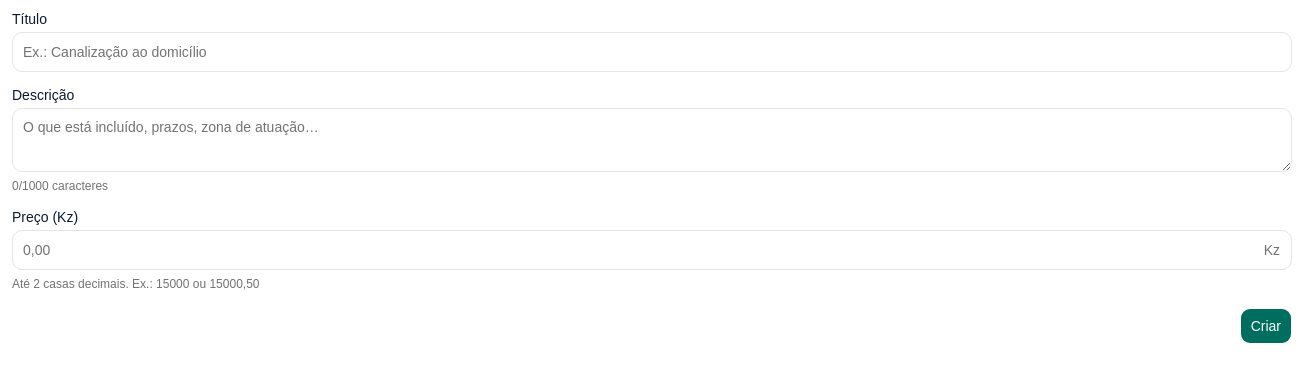
it: ServiceForm › mostra os erros de validação do contrato
In the field labelled "Título": (652, 52) [12,32,1292,72], type "ab"
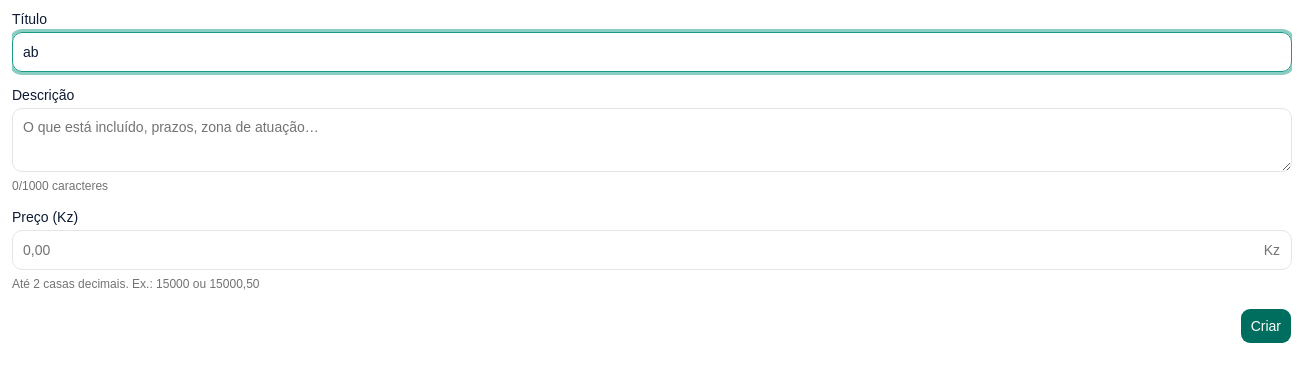
In the field labelled "Preço (Kz)": (652, 250) [12,230,1292,270], type "12,345"
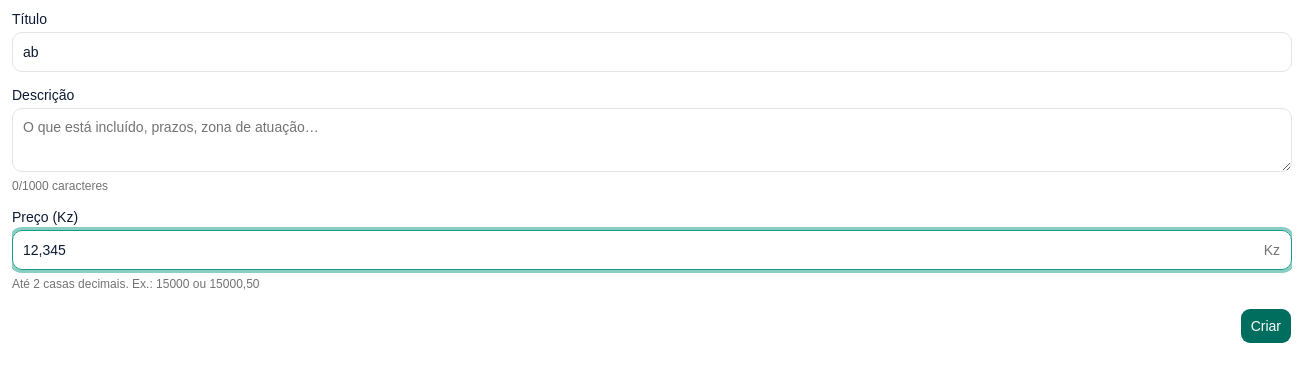
Click the button "Criar": (1266, 326) [1240,308,1292,344]
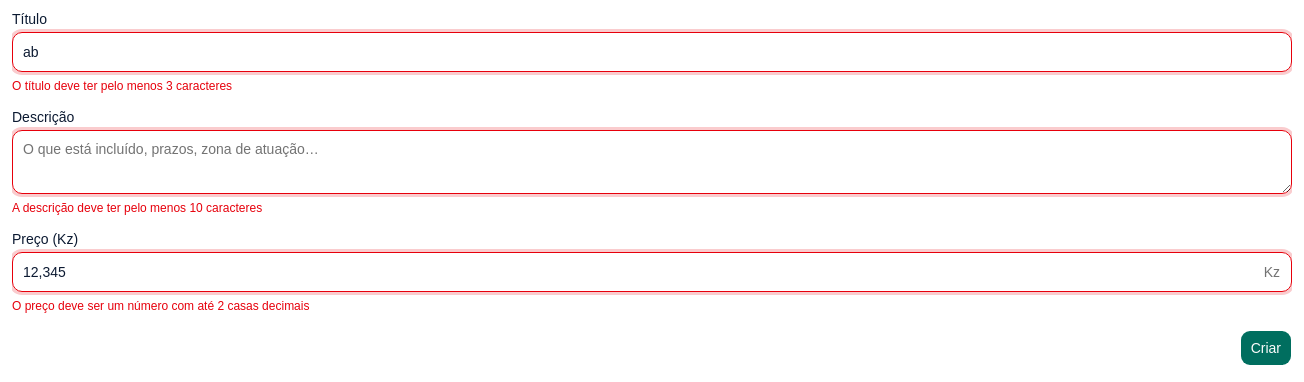
Now the text "O título deve ter pelo menos 3 caracteres" is shown, box [12,79,232,93]
Now the text "A descrição deve ter pelo menos 10 caracteres" is shown, box [12,201,262,215]
Now the text "O preço deve ser um número com até 2 casas decimais" is shown, box [12,299,310,313]
